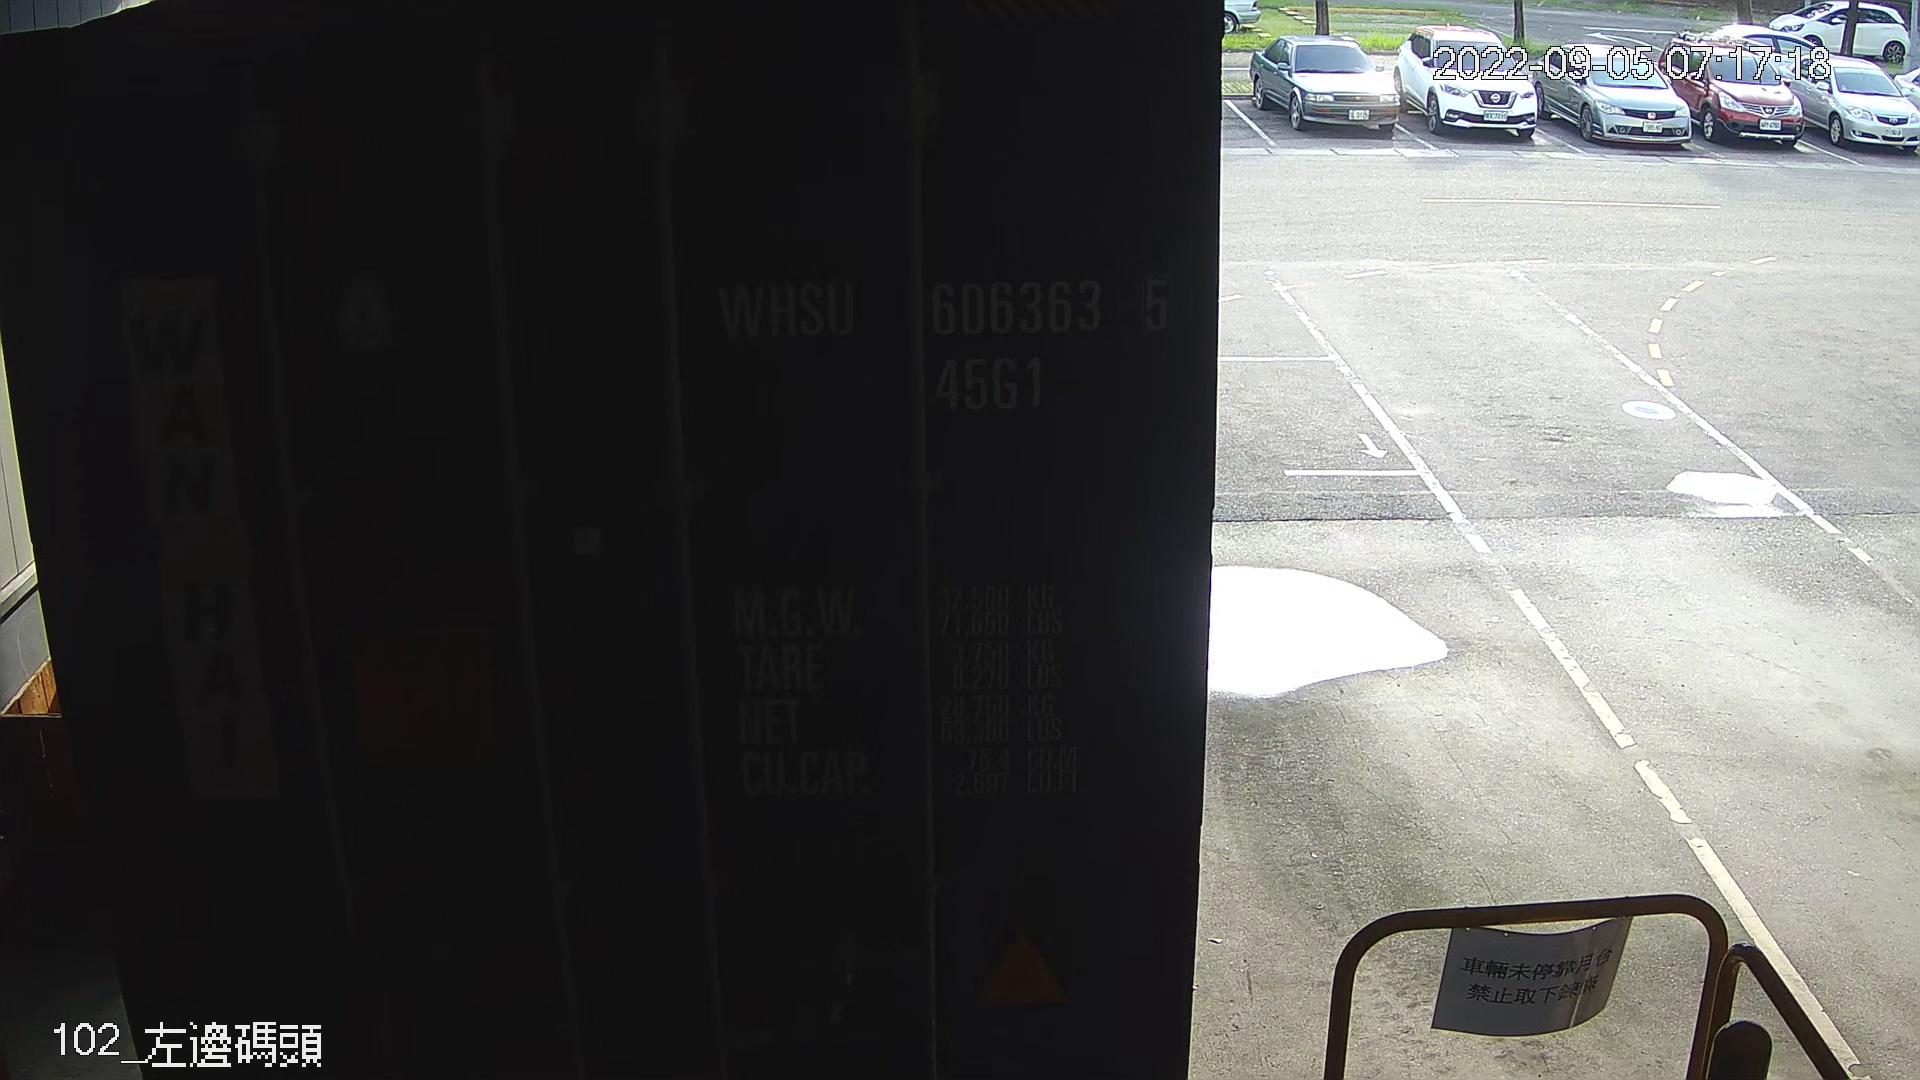container: (703, 257, 1185, 426)
